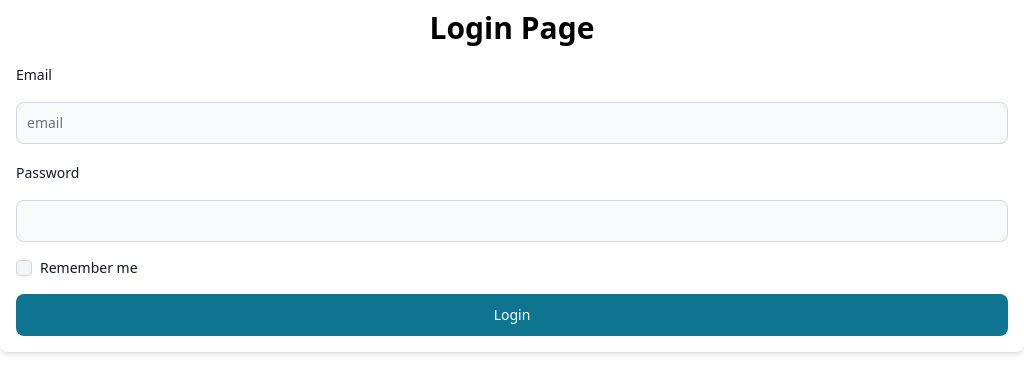
Test: when the user submits the form data and the server throws an unexpected error › should display the error message: Unexpected error, please try again
In the field with placeholder "Email": {"x": 512, "y": 123} [16,102,1008,144], type "dave@gmail.com"
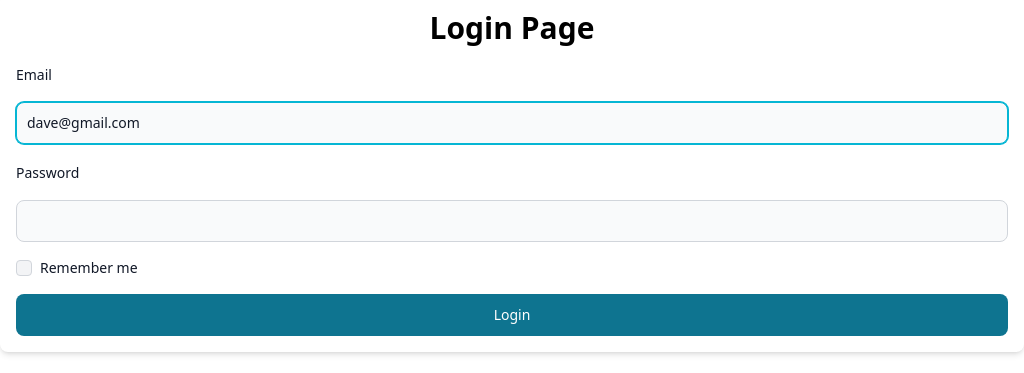
In the password field labelled "Password": {"x": 512, "y": 221} [16,200,1008,242], type "Davejs$21"
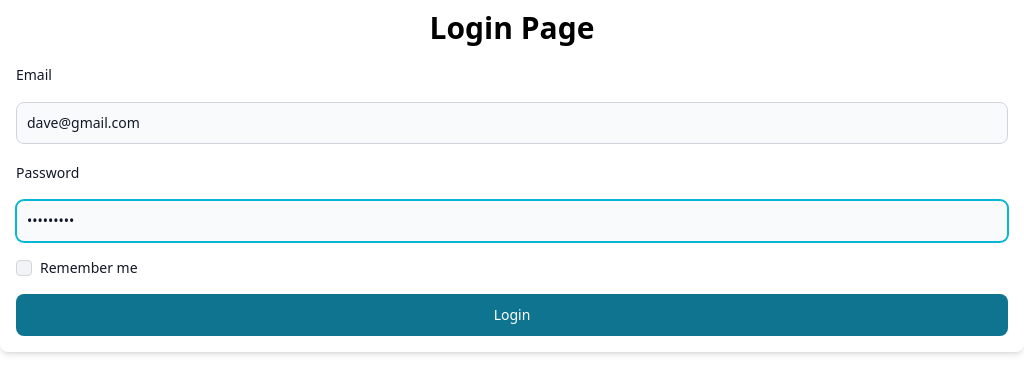
Click the button "Login": {"x": 512, "y": 315} [16,294,1008,336]
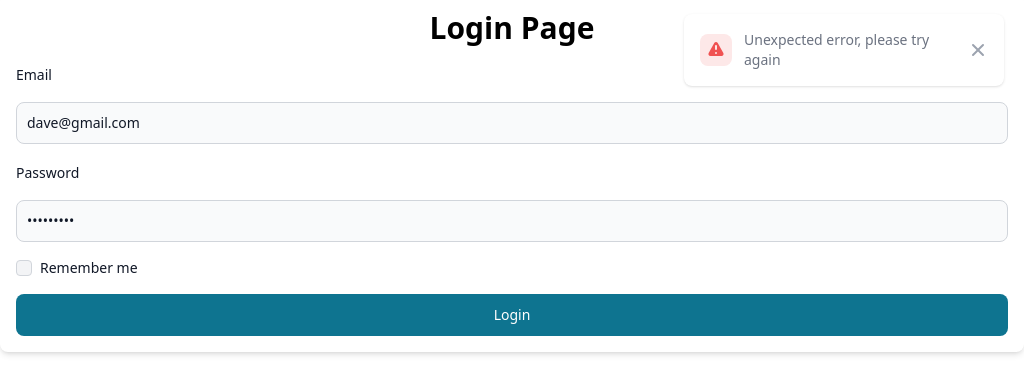
Result: the text "Unexpected error, please try again" is shown at [744,30,929,69]
